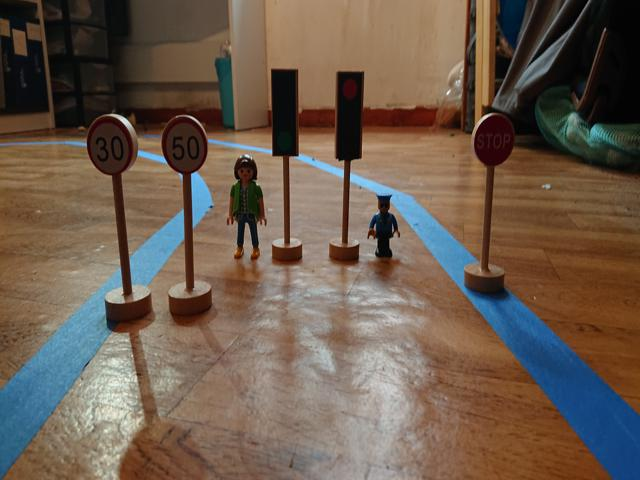30 speed sign: (85, 117, 134, 177)
50 speed sign: (161, 118, 208, 175)
green light: (273, 73, 296, 154)
person: (224, 154, 266, 259), (364, 192, 407, 263)
red light: (338, 74, 359, 161)
stop sign: (474, 113, 515, 166)
